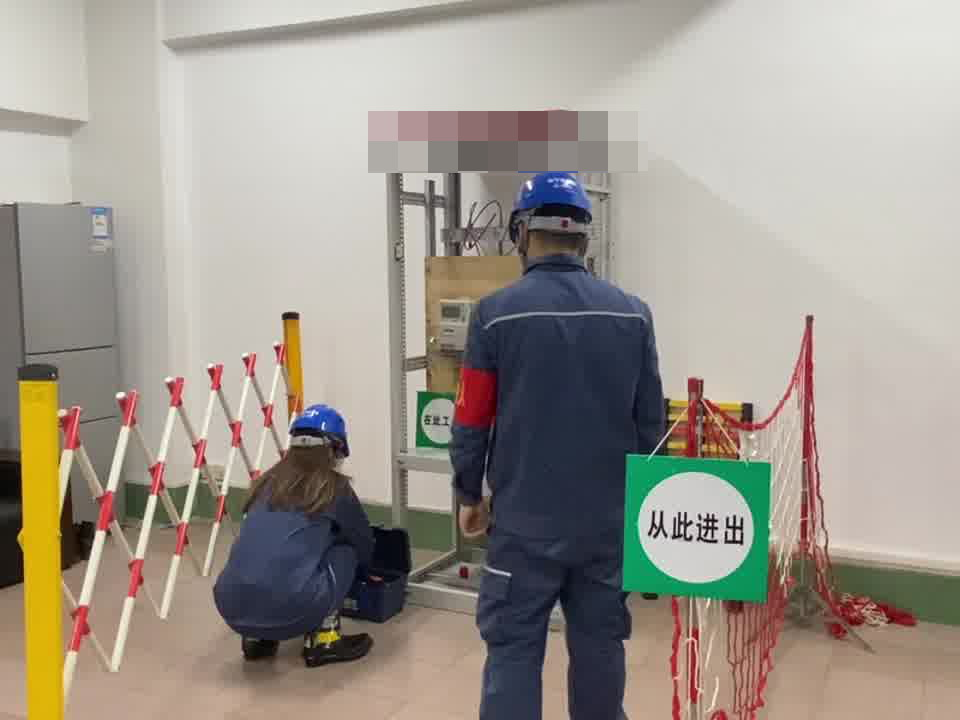badge: (455, 367, 499, 429)
downsuit: (471, 552, 634, 720)
hair: (241, 405, 351, 510)
halt: (507, 167, 597, 264)
hand: (460, 505, 491, 536)
inear: (512, 220, 533, 255)
intosign: (626, 458, 763, 594)
person: (449, 161, 671, 720), (220, 402, 386, 661)
shoe: (309, 611, 366, 660)
upsuit: (452, 263, 670, 544), (231, 502, 364, 615)
worksign: (417, 393, 451, 444)
